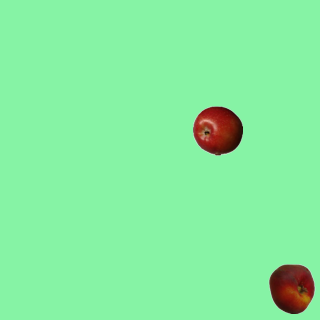Apple Braeburn: (192, 105, 242, 155)
Nectarine Flat: (266, 263, 316, 313)
